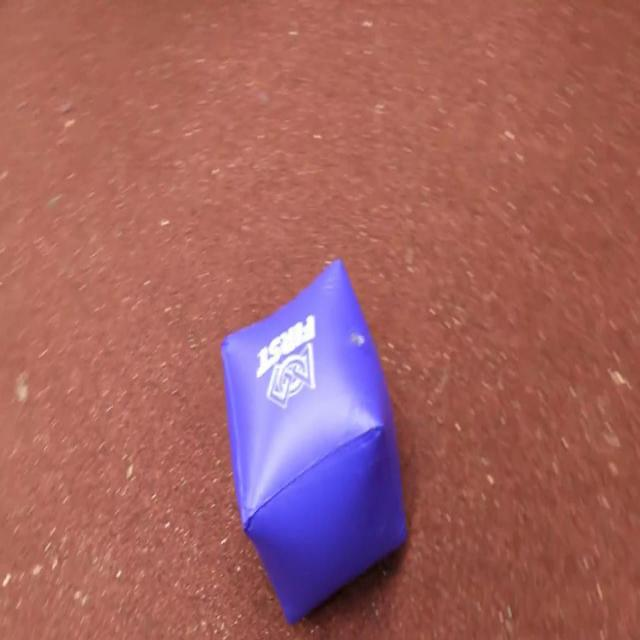frc_cube: (220, 257, 408, 628)
